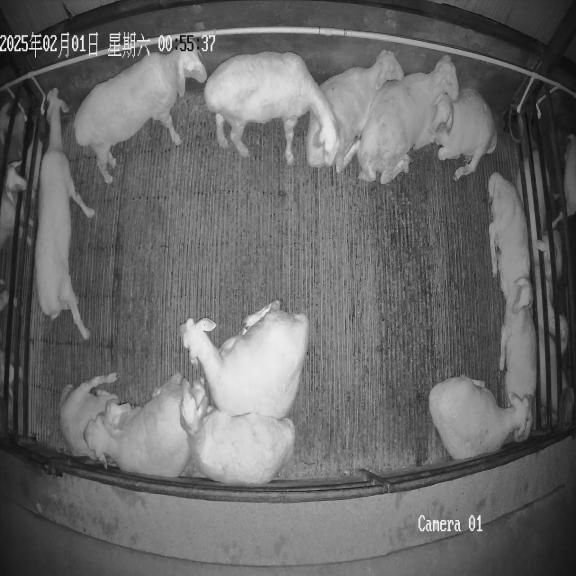lying: (180, 301, 309, 418), (357, 55, 459, 184), (180, 379, 295, 484), (84, 374, 189, 478), (320, 50, 404, 172), (429, 376, 531, 460), (59, 373, 132, 459), (430, 88, 497, 180), (488, 172, 532, 312), (500, 302, 537, 440), (306, 116, 333, 168)
stand: (73, 46, 207, 183), (35, 88, 95, 340), (204, 52, 339, 164)
